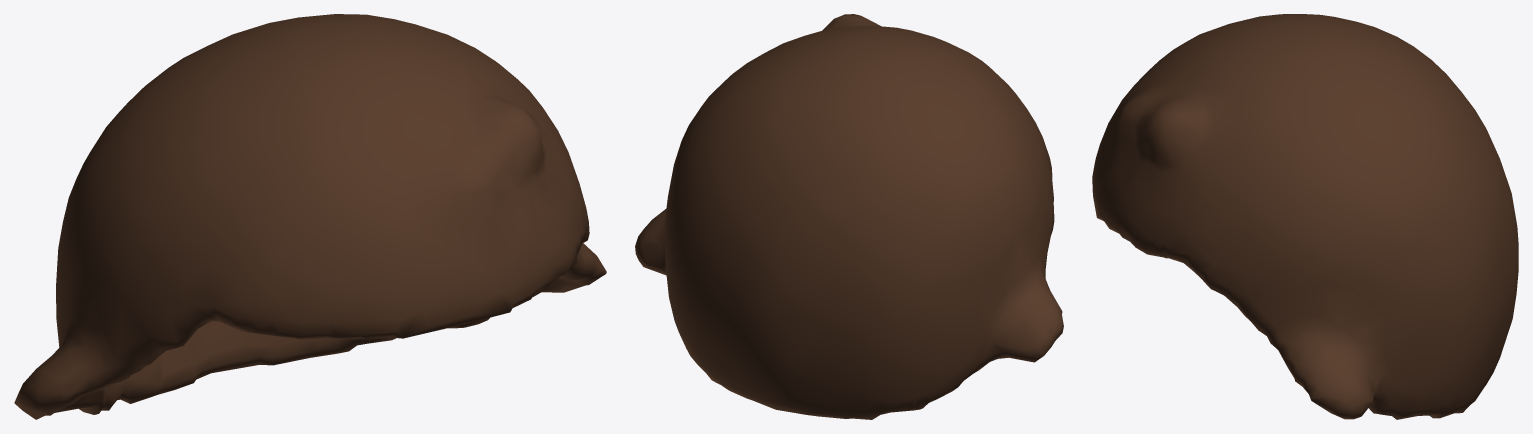
File: hair_sidepart.glb
3 views of the same model, side by side, from view 1: azimuth 30°, elevation 25°; view 2: azimuth 150°, elevation 25°; view 3: azimuth 270°, elevation 25° (orthographic). The views are drawn at different scales.
Visible parts, largest first — view 1: HairSidePart.001; view 2: HairSidePart.001; view 3: HairSidePart.001.
Part boxes in pixels (box(x1,y1,x2,y2)): HairSidePart.001: box(14, 14, 606, 419); HairSidePart.001: box(635, 14, 1063, 419); HairSidePart.001: box(1092, 14, 1518, 419).
Bounding box in the file's own units: 0.361 × 0.2513 × 0.2876.
